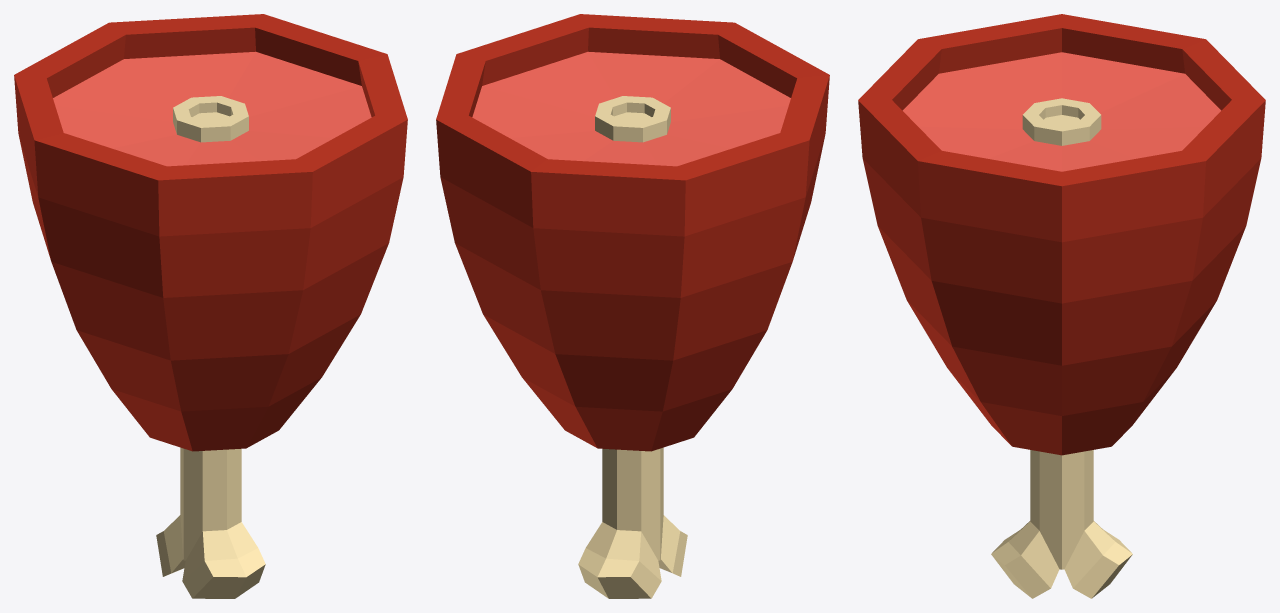
3 views of the same model, side by side, from view 1: azimuth 30°, elevation 25°; view 2: azimuth 150°, elevation 25°; view 3: azimuth 270°, elevation 25° (orthographic).
Parts seen in each view (by area): view 1: Plane; view 2: Plane; view 3: Plane.
Part boxes in pixels (x1,y1,x2,y2): Plane: [14, 14, 407, 598]; Plane: [436, 14, 829, 598]; Plane: [858, 14, 1265, 598].
Bounding box in the file's own units: 1.36 × 1.79 × 1.36.
